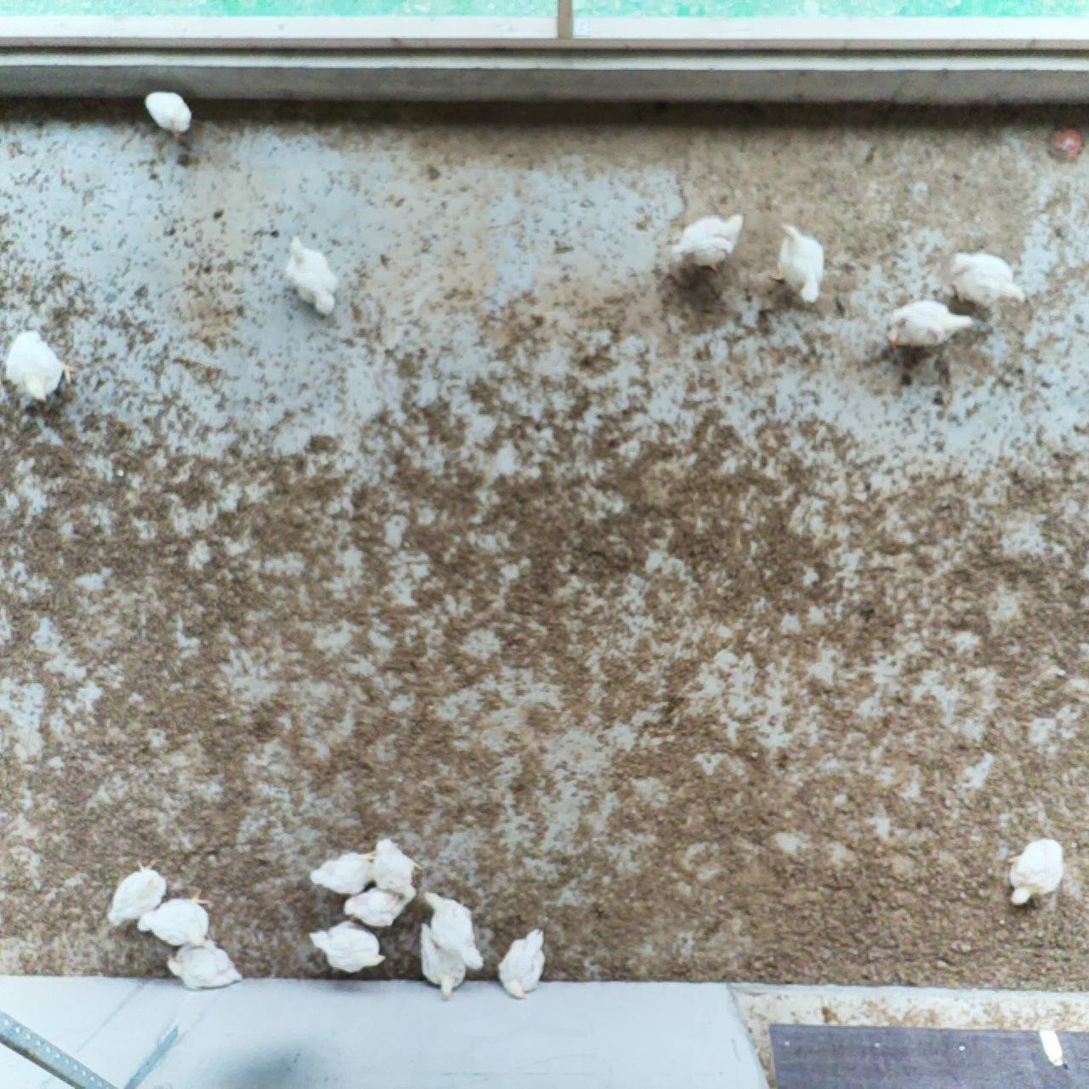chicken: (2, 326, 80, 412), (881, 290, 977, 358), (766, 218, 831, 310), (281, 230, 346, 321), (947, 247, 1029, 318), (421, 886, 487, 974), (102, 854, 172, 934), (669, 208, 753, 273), (999, 833, 1068, 909), (134, 886, 215, 950), (164, 936, 246, 998), (306, 917, 386, 976), (495, 925, 551, 1003), (369, 835, 425, 909), (306, 848, 380, 897), (339, 879, 409, 928), (140, 87, 197, 144)
